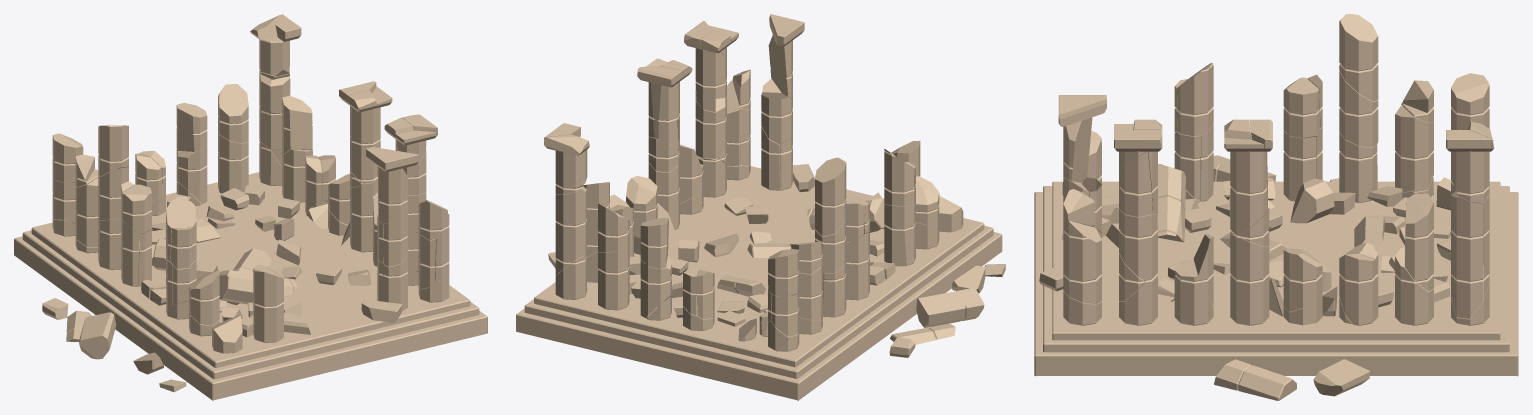
File: Parthenon-Destroyed.fbx
The picture shows the model from 3 angles, left to right: view 1: azimuth 30°, elevation 25°; view 2: azimuth 150°, elevation 25°; view 3: azimuth 270°, elevation 25°; orthographic projection. The views are drawn at different scales.
Visible parts, largest first — view 1: pillars b_cell.259; view 2: pillars b_cell.259; view 3: pillars b_cell.259.
Boxes of the visible parts, <box> form: pillars b_cell.259: <box>14,14,487,400</box>; pillars b_cell.259: <box>516,14,1005,400</box>; pillars b_cell.259: <box>1034,14,1518,400</box>.
Size of the model in its own units: 222 by 104 by 200.
